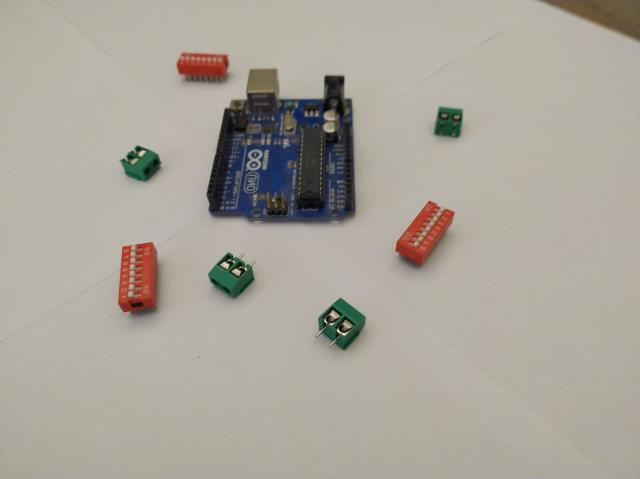arduino: (207, 67, 356, 221)
dip_switch: (396, 201, 454, 265), (118, 243, 158, 314), (177, 53, 230, 83)
terminal_block: (314, 297, 366, 351), (208, 252, 255, 298), (119, 145, 161, 181), (433, 107, 462, 139)
